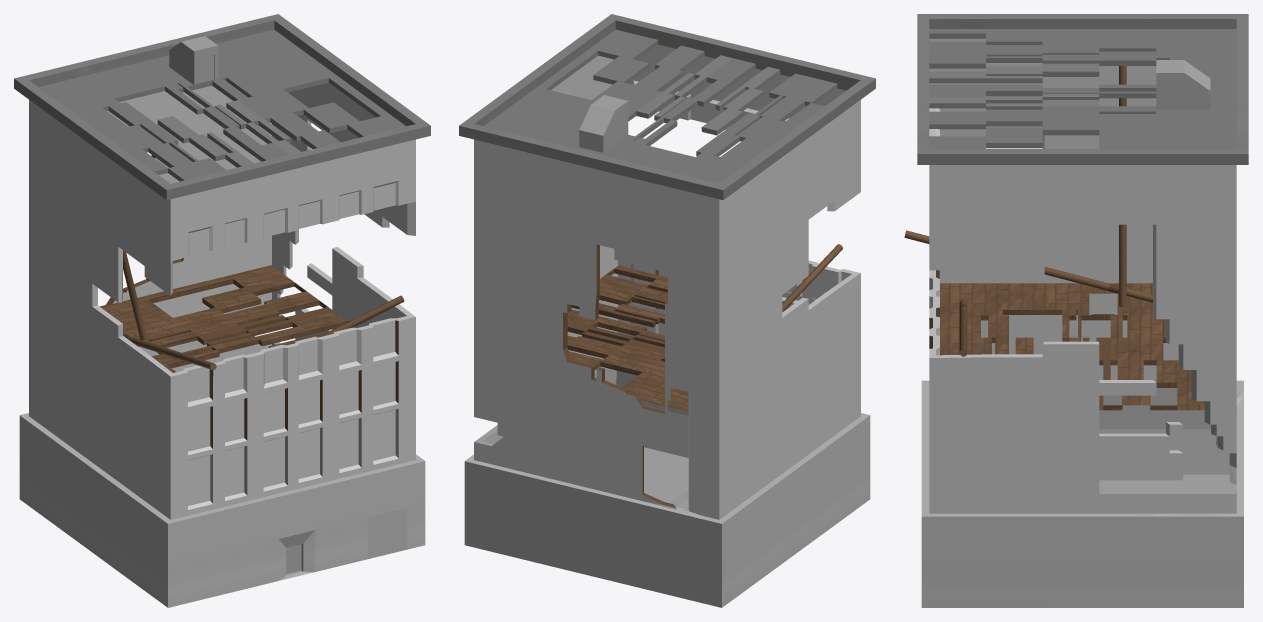
The model's file is DestroyedBuilding2.0.fbx.
3 renders of one model, left to right at view 1: azimuth 30°, elevation 25°; view 2: azimuth 150°, elevation 25°; view 3: azimuth 270°, elevation 25°, orthographic. The views are drawn at different scales.
Visible parts, largest first — view 1: DestroyedBuilding1; view 2: DestroyedBuilding1; view 3: DestroyedBuilding1.
Boxes of the visible parts, x1,y1,x2,y2 form: DestroyedBuilding1: (14, 14, 430, 607); DestroyedBuilding1: (459, 14, 875, 607); DestroyedBuilding1: (904, 14, 1248, 607).
Bounding box in the file's own units: 4.31 × 6.93 × 4.48.
